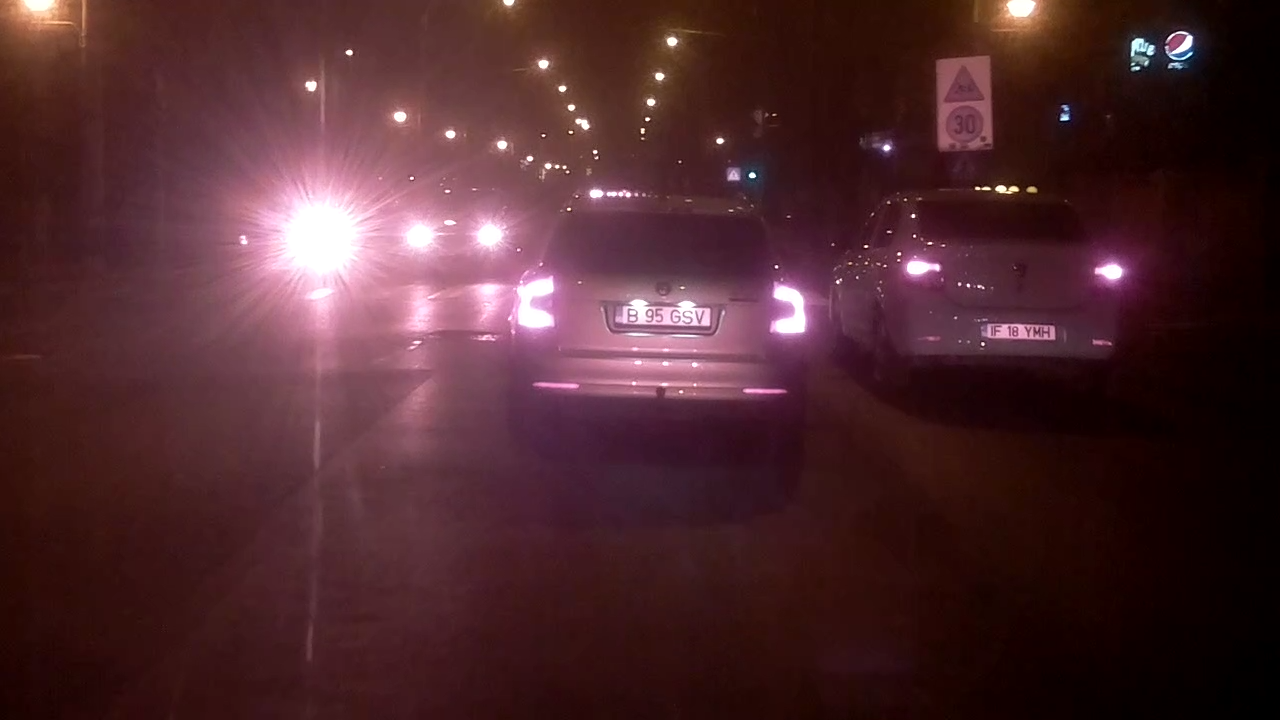license-plate: (612, 300, 715, 331), (978, 318, 1060, 344)
